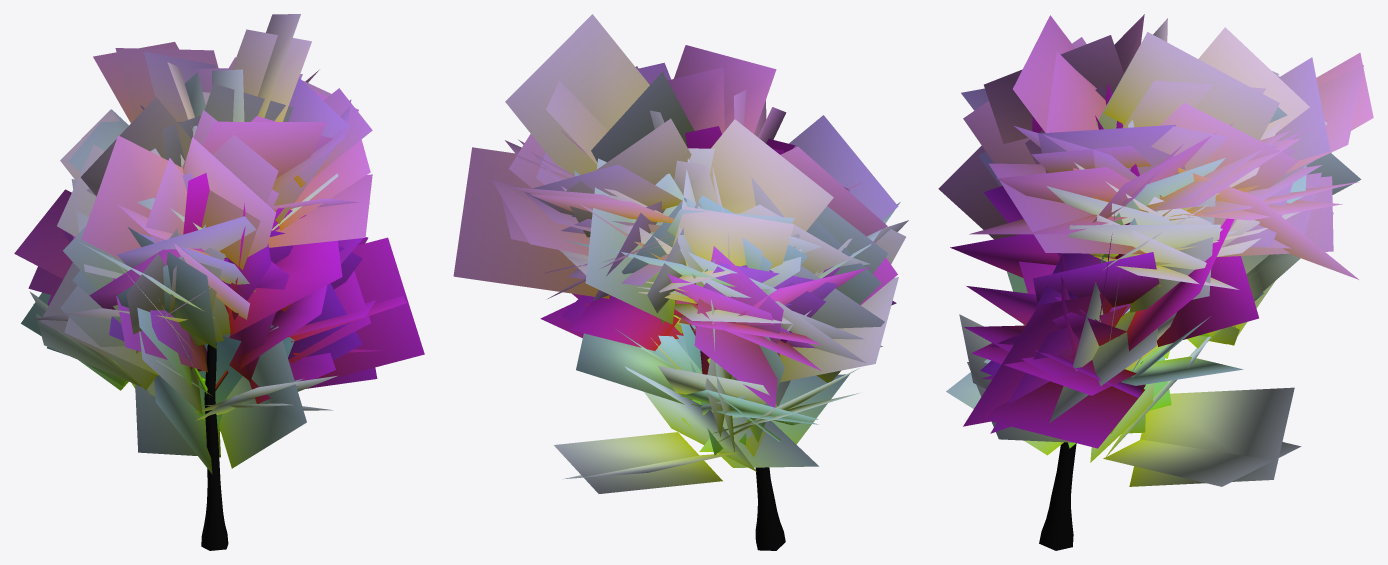
File: tree_ginkgo_c_lod1.glb
3 renders of one model, left to right at view 1: azimuth 30°, elevation 25°; view 2: azimuth 150°, elevation 25°; view 3: azimuth 270°, elevation 25°, orthographic. The views are drawn at different scales.
Visible parts, largest first — view 1: tree_ginkgo_c_lod1; view 2: tree_ginkgo_c_lod1; view 3: tree_ginkgo_c_lod1.
Part boxes in pixels (box(x1,y1,x2,y2)): tree_ginkgo_c_lod1: box(14, 14, 424, 550); tree_ginkgo_c_lod1: box(453, 14, 908, 550); tree_ginkgo_c_lod1: box(938, 14, 1373, 550).
Size of the model in its own units: 9.89 by 13.65 by 9.18.
